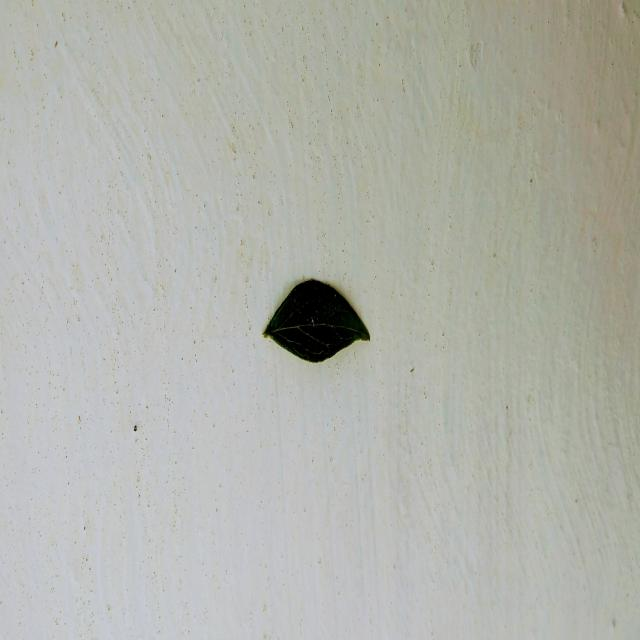Parijatha: (264, 280, 370, 362)
